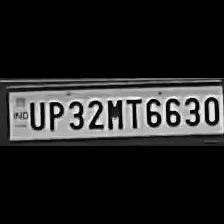0: (201, 93, 221, 125)
2: (84, 96, 104, 130)
3: (64, 97, 84, 130), (180, 93, 200, 126)
6: (142, 94, 162, 128), (162, 93, 182, 126)
M: (104, 94, 124, 130)
P: (44, 97, 64, 130)
T: (124, 94, 142, 130)
U: (25, 98, 45, 130)
